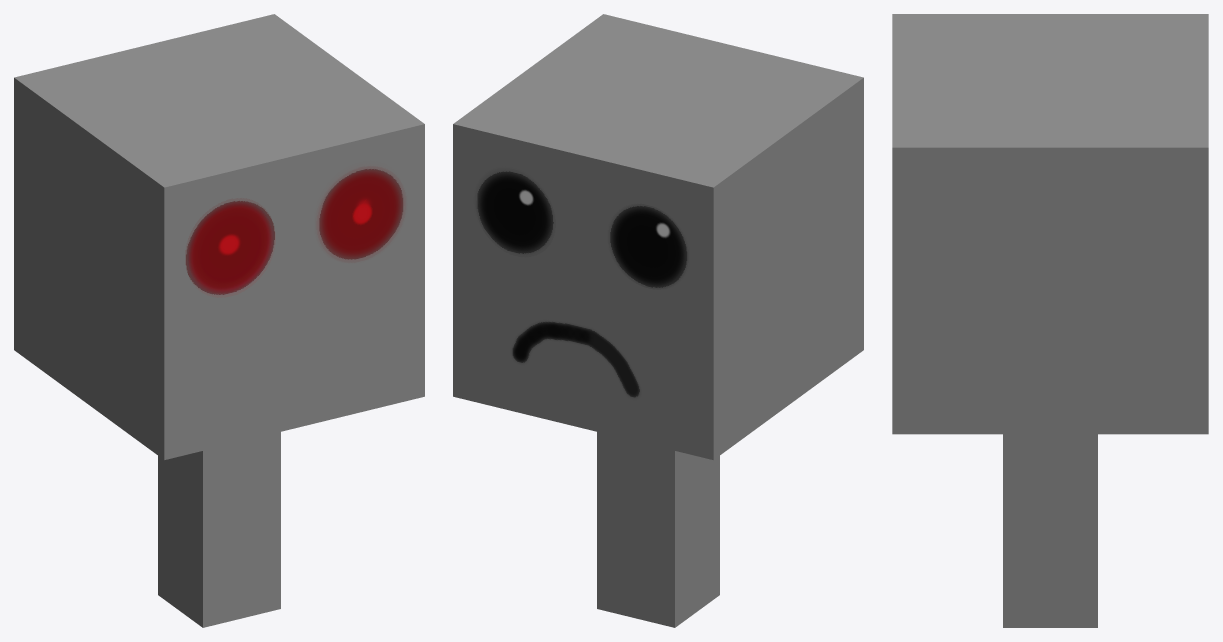
The model's file is Head.obj.
3 renders of one model, left to right at view 1: azimuth 30°, elevation 25°; view 2: azimuth 150°, elevation 25°; view 3: azimuth 270°, elevation 25°, orthographic. The views are drawn at different scales.
Parts seen in each view (by area): view 1: Cube; view 2: Cube; view 3: Cube.
Boxes of the visible parts, <box> form: Cube: <box>14,14,424,627</box>; Cube: <box>453,14,863,627</box>; Cube: <box>892,14,1208,627</box>.
Size of the model in its own units: 2 by 3.68 by 2.
Materials: 1 (1 with a texture image).
